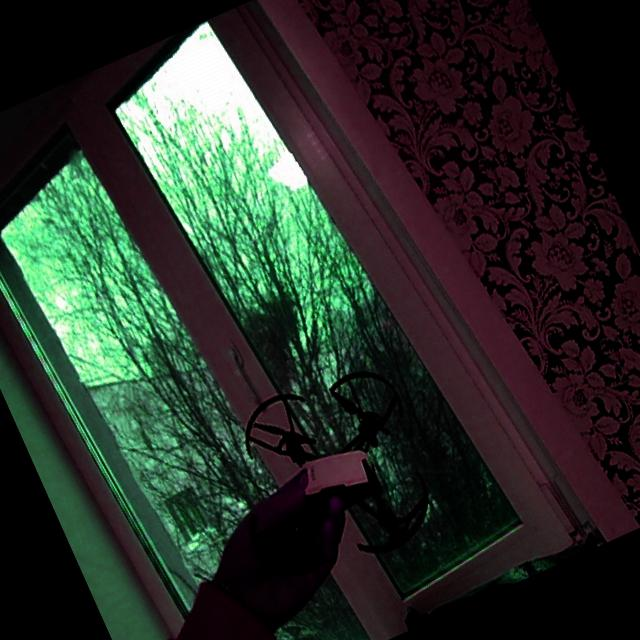drone: (195, 340, 472, 616)
